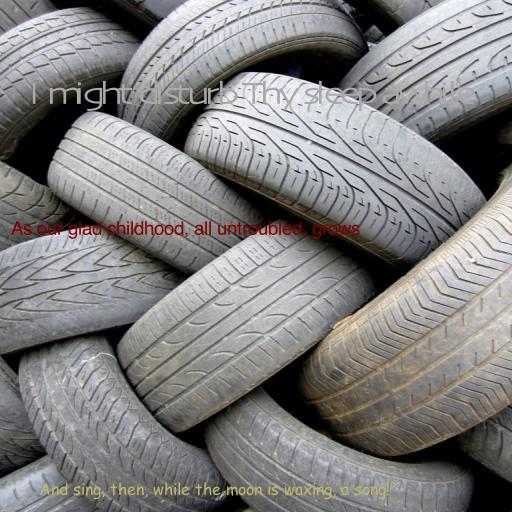Comic Sans MS: (39, 482, 397, 500)
SF Pro: (10, 221, 360, 239)
Skia: (28, 80, 472, 111)
